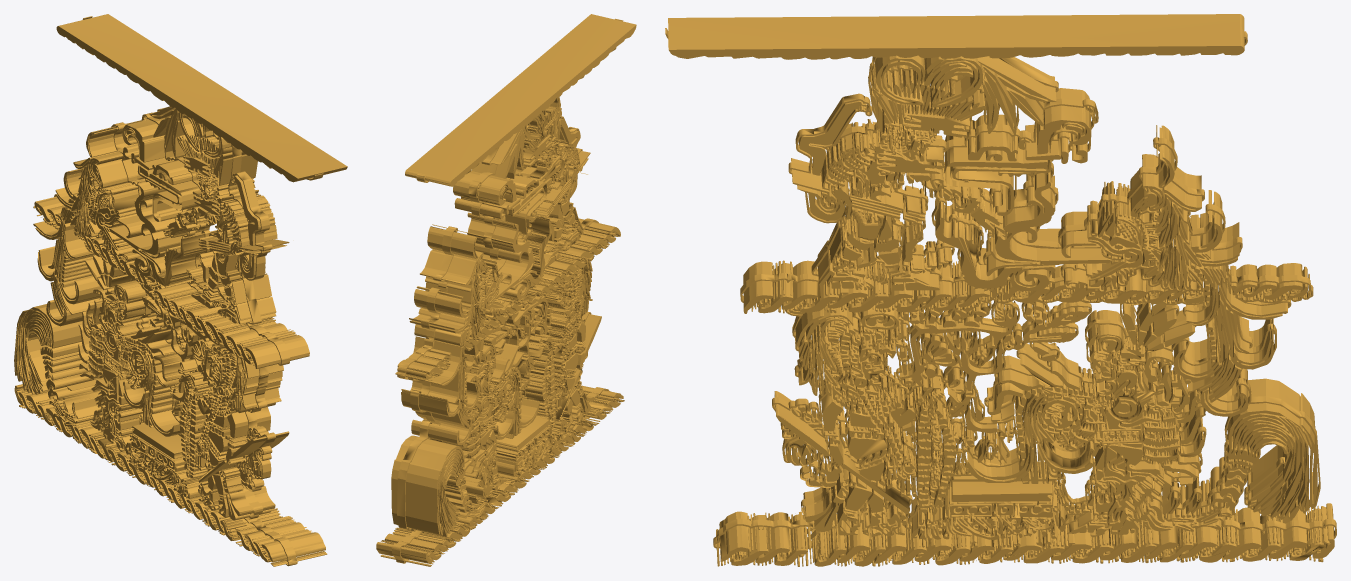
The model's file is templegoldpeice8.glb.
The picture shows the model from 3 angles, left to right: view 1: azimuth 30°, elevation 25°; view 2: azimuth 150°, elevation 25°; view 3: azimuth 270°, elevation 25°; orthographic projection. The views are drawn at different scales.
Parts seen in each view (by area): view 1: Selection.8065; view 2: Selection.8065; view 3: Selection.8065.
Boxes of the visible parts, x1,y1,x2,y2 form: Selection.8065: (14, 14, 347, 566); Selection.8065: (376, 14, 636, 566); Selection.8065: (665, 14, 1336, 566).
Bounding box in the file's own units: 0.1417 × 0.6117 × 0.705.
